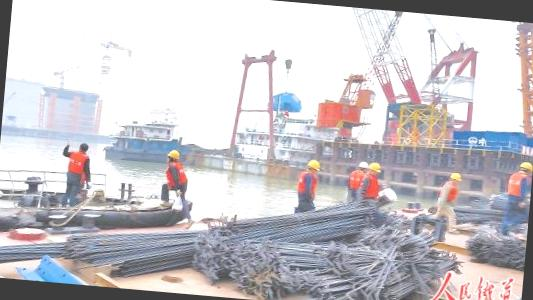no_helmet: (74, 139, 94, 156)
